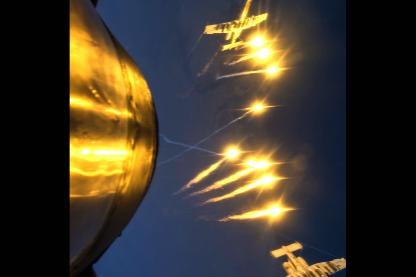A10: (203, 0, 268, 52), (257, 240, 347, 276)
